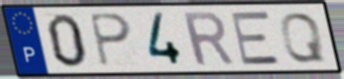0: (45, 12, 90, 69)
4: (146, 11, 185, 69)
E: (228, 9, 283, 67)
P: (86, 12, 134, 69)
Q: (278, 10, 328, 64)
R: (179, 10, 237, 69)
